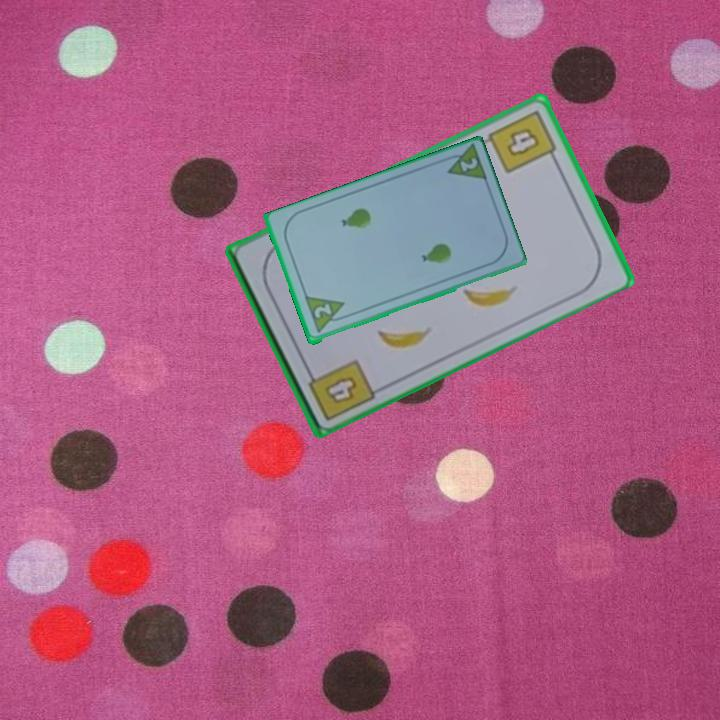2p: (438, 143, 490, 186), (301, 293, 351, 336)
4b: (484, 106, 561, 176), (302, 355, 378, 424)
